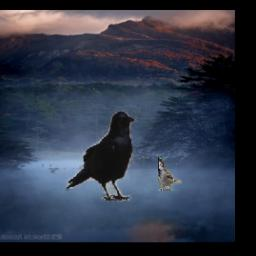Crow: (66, 109, 138, 202)
Sparrow: (157, 156, 181, 191)
